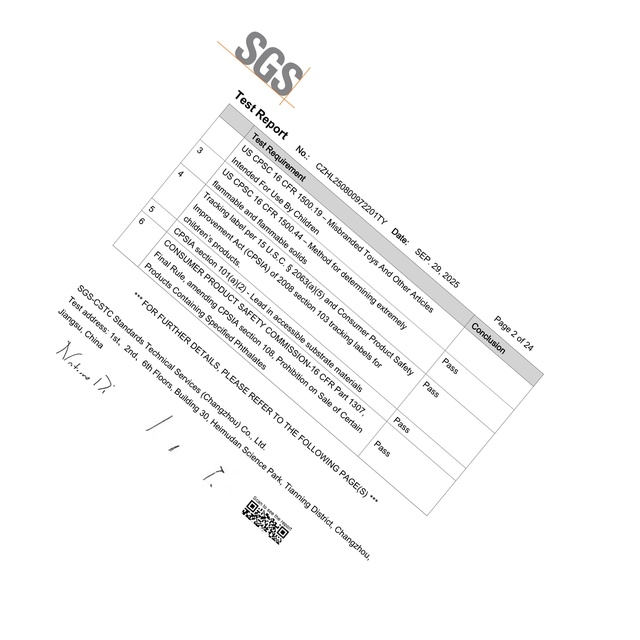sgs: (236, 32, 302, 96)
